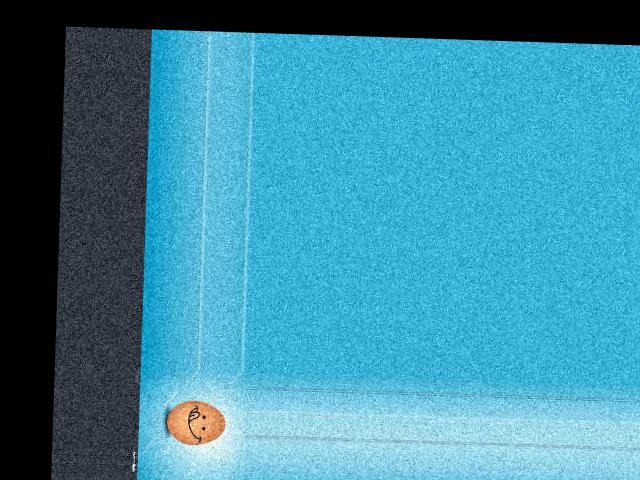egg: (166, 399, 226, 445)
